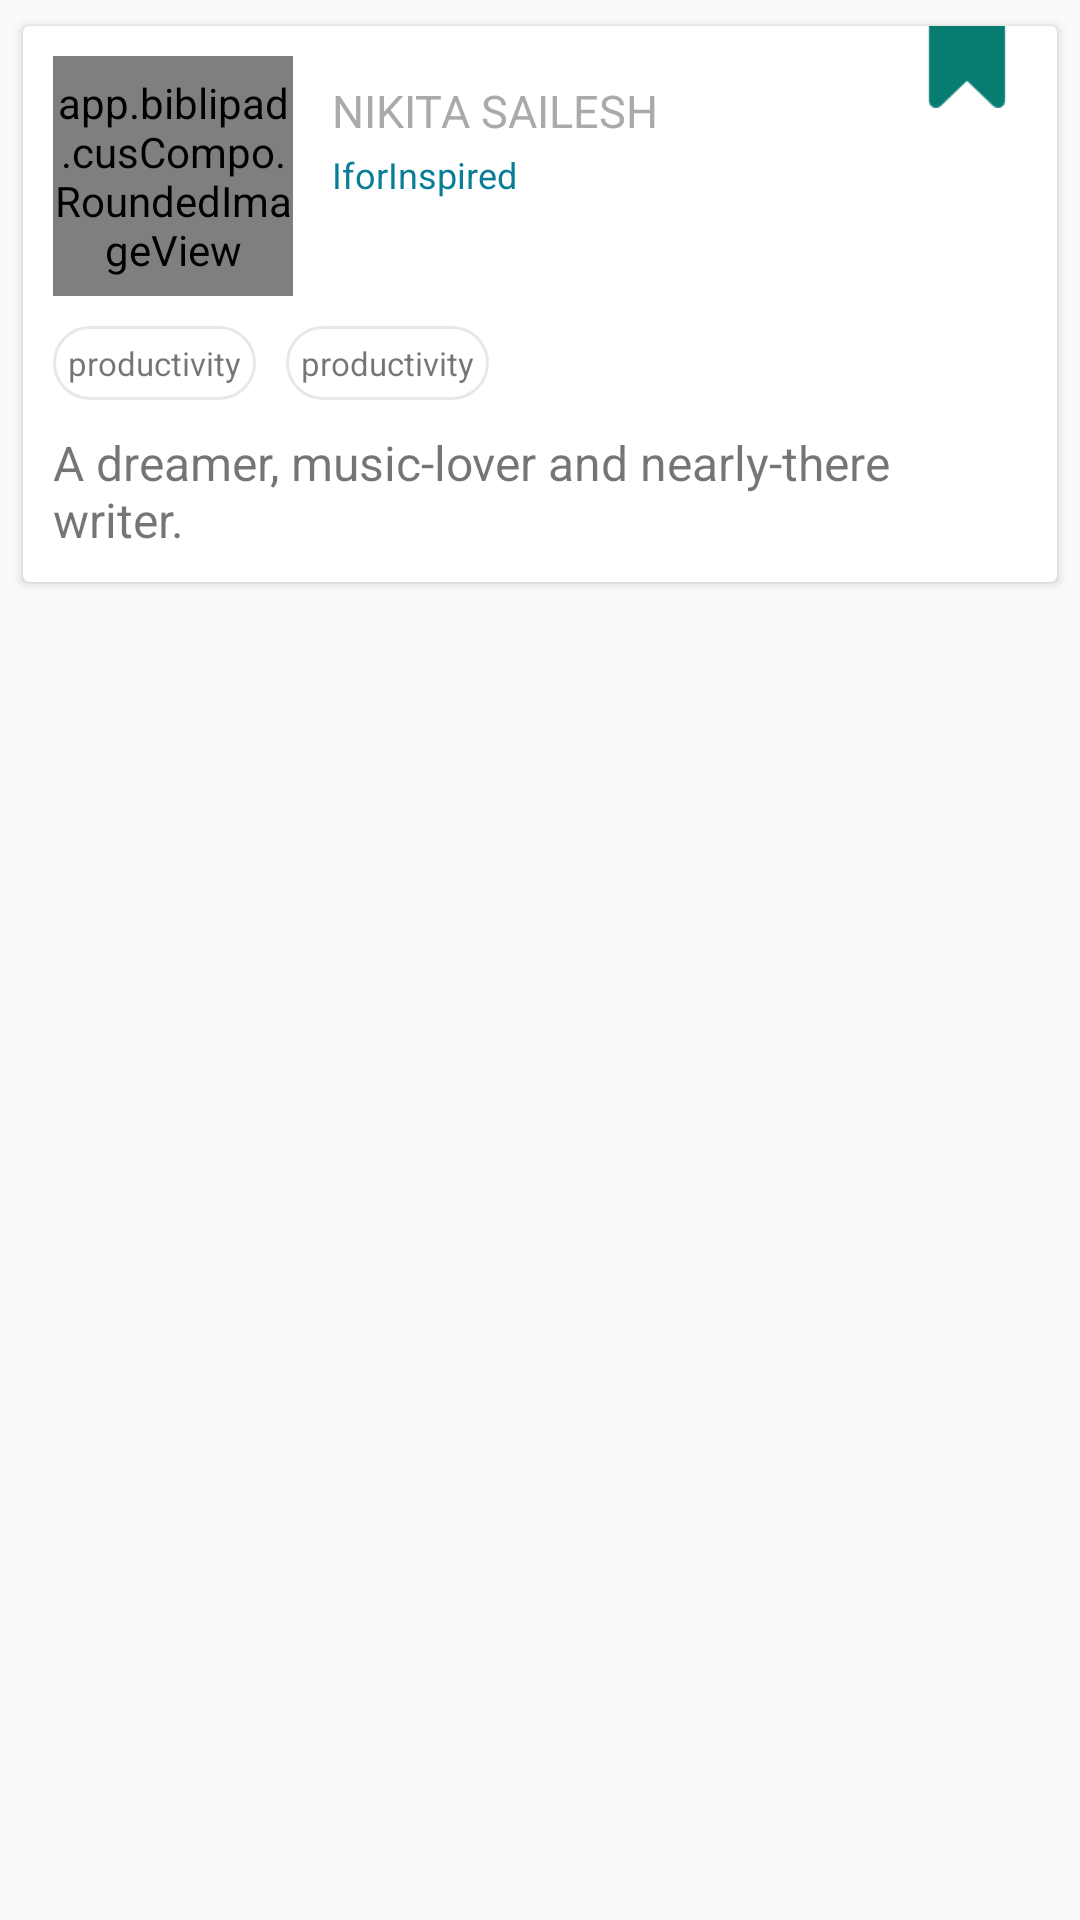

Icons on this 1080w x 1920h Android screen, each with the point to tap as [x,y]:
bookmarked: [967,67]
